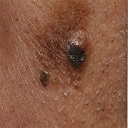Melanoma: (66, 29, 89, 69), (38, 69, 51, 87)
